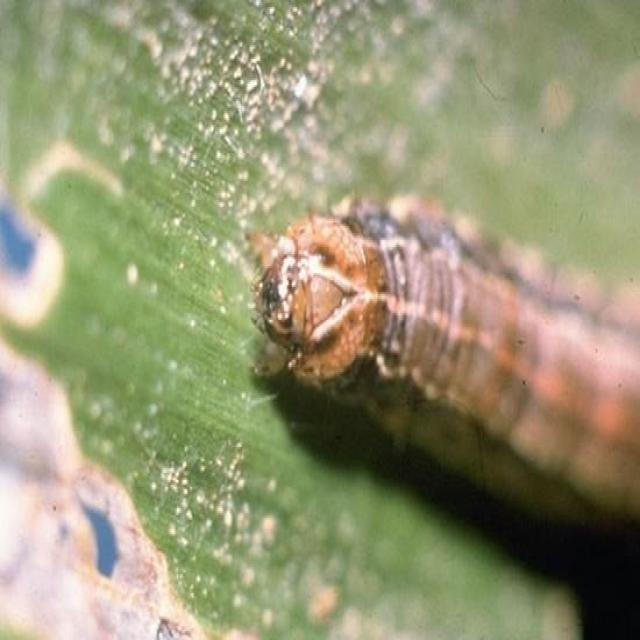army worm: (246, 182, 636, 523)
